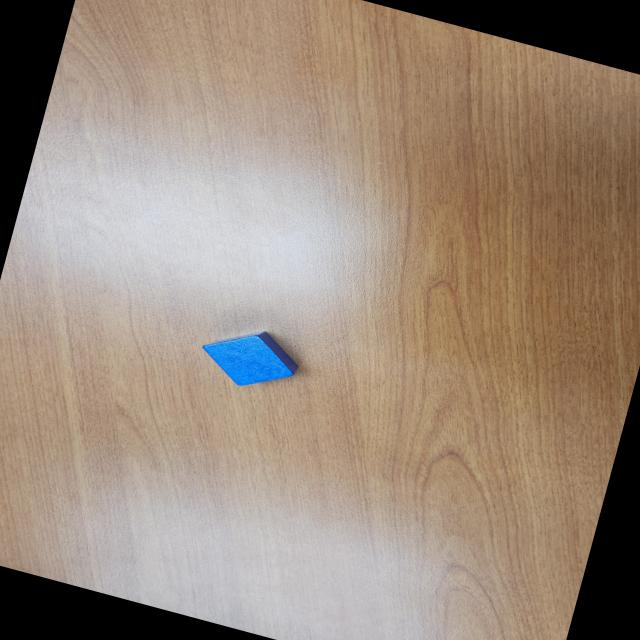blue: (195, 316, 308, 400)
